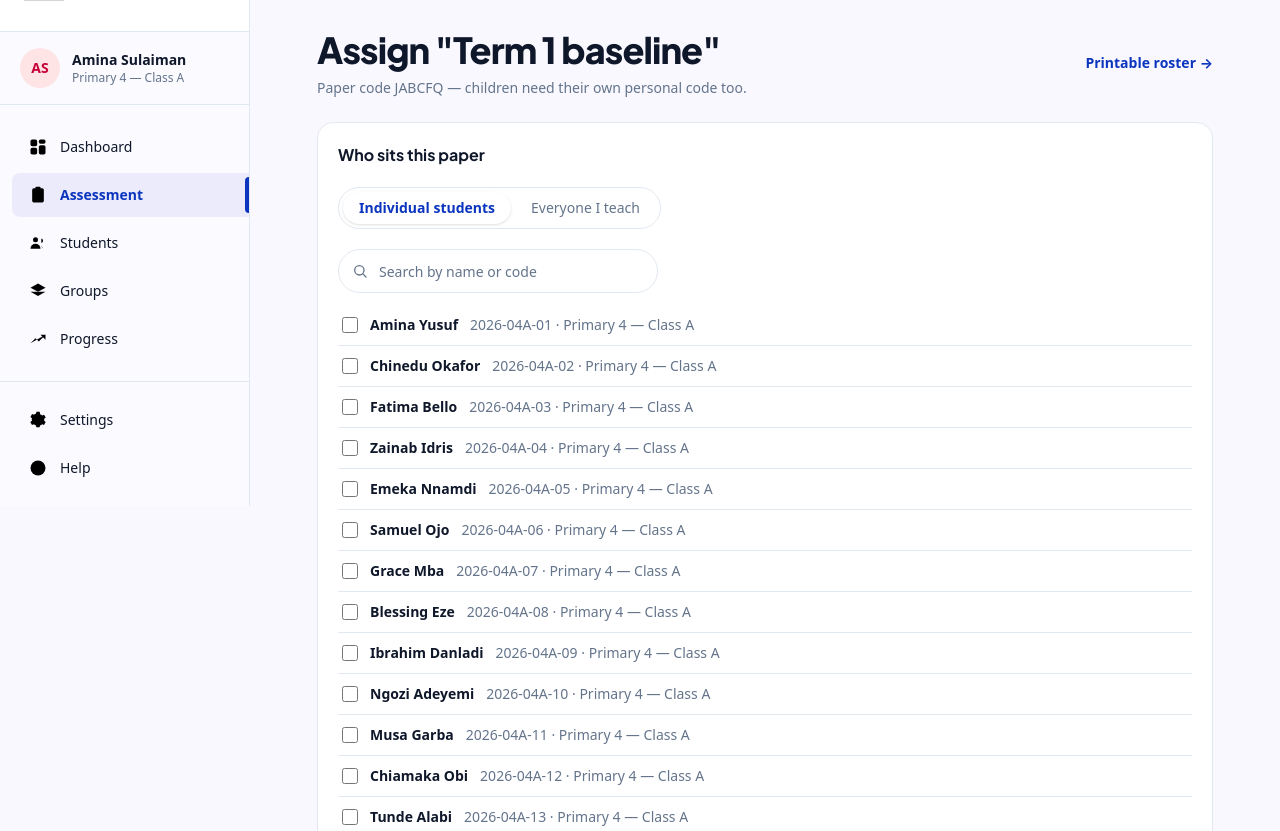
AssignAssessmentPage › reports assigning individual students fewer than selected the second time
The image size is (1280, 831).
Click the radio button labelled "Individual students" at (427,208), box [343,192,511,224]
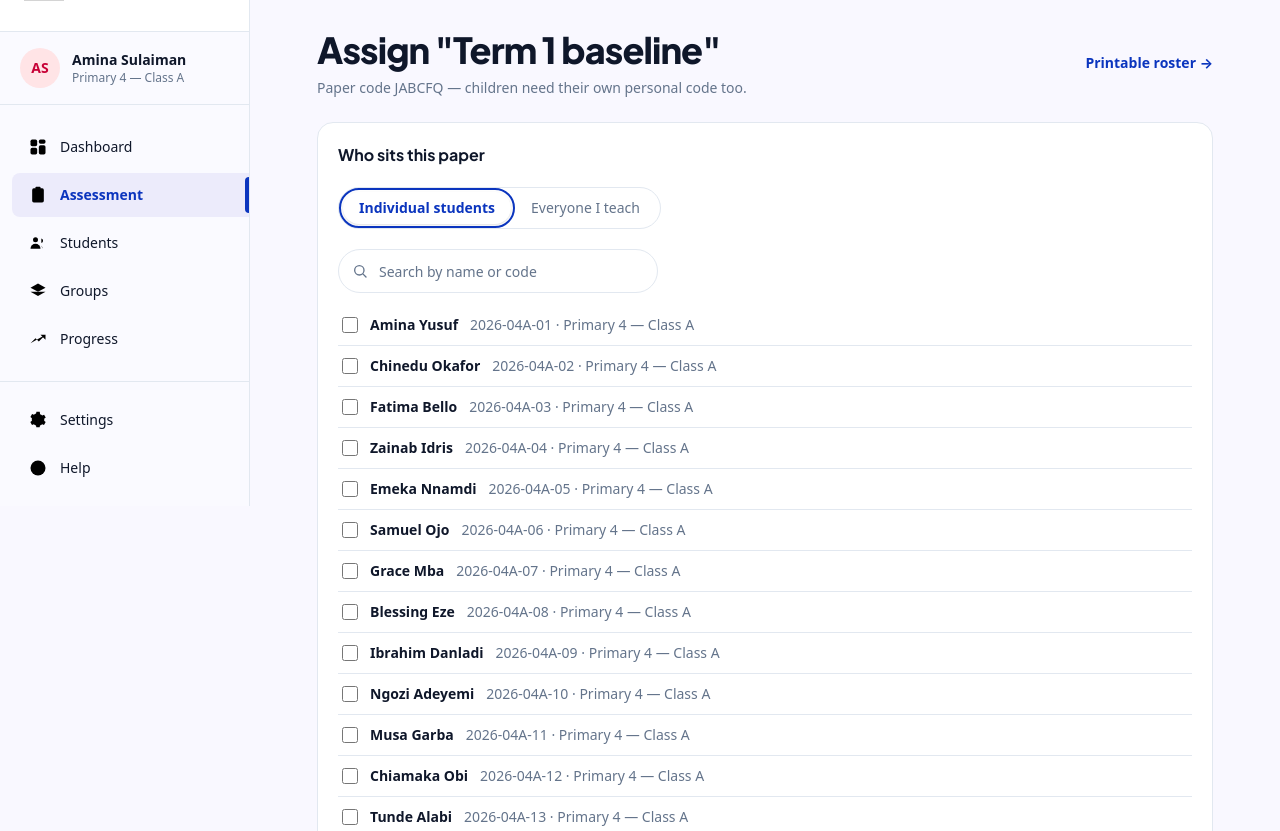
Click the checkbox labelled "Amina Yusuf 2026-04A-01 · Primary 4 — Class A" at (350,325), box [342,317,358,333]
(page scrolled)
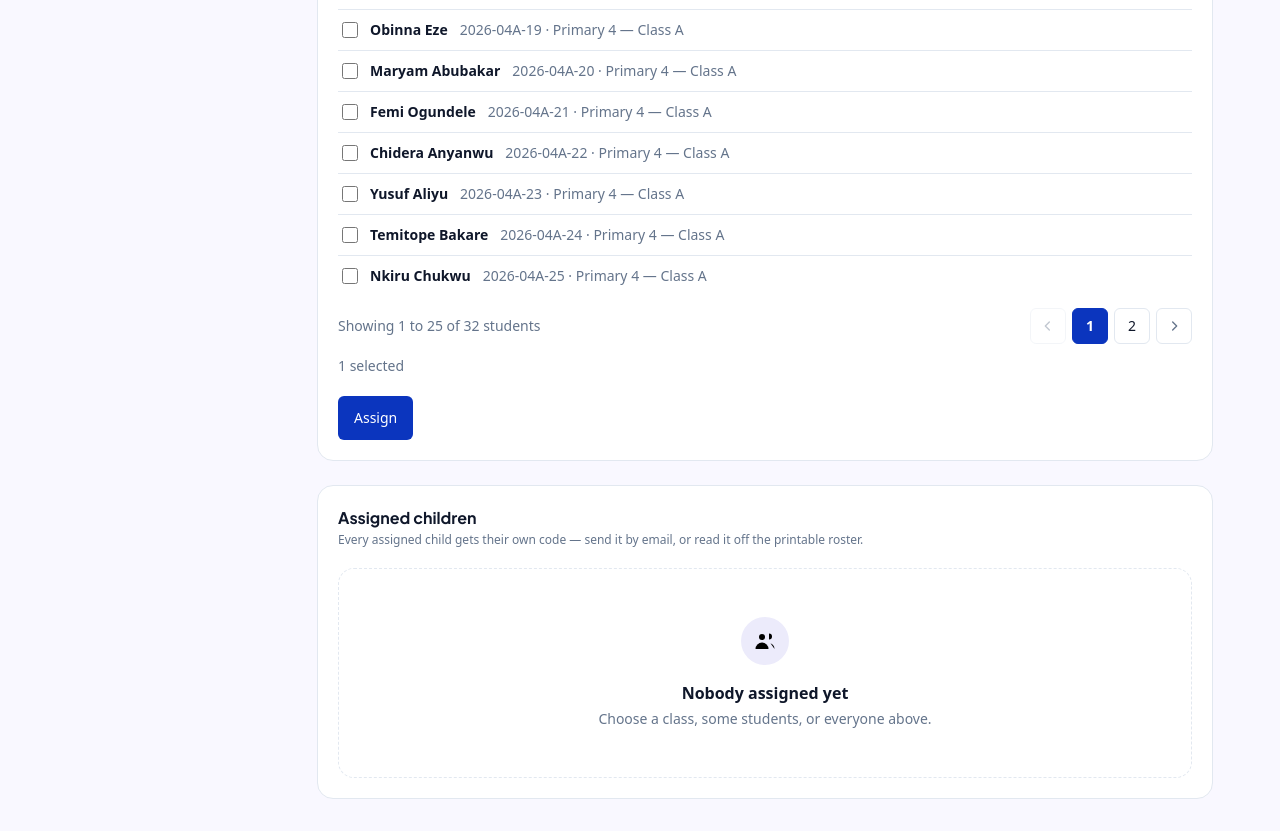
Click the button "Assign" at (376,418), box [338,396,413,440]
(page scrolled)
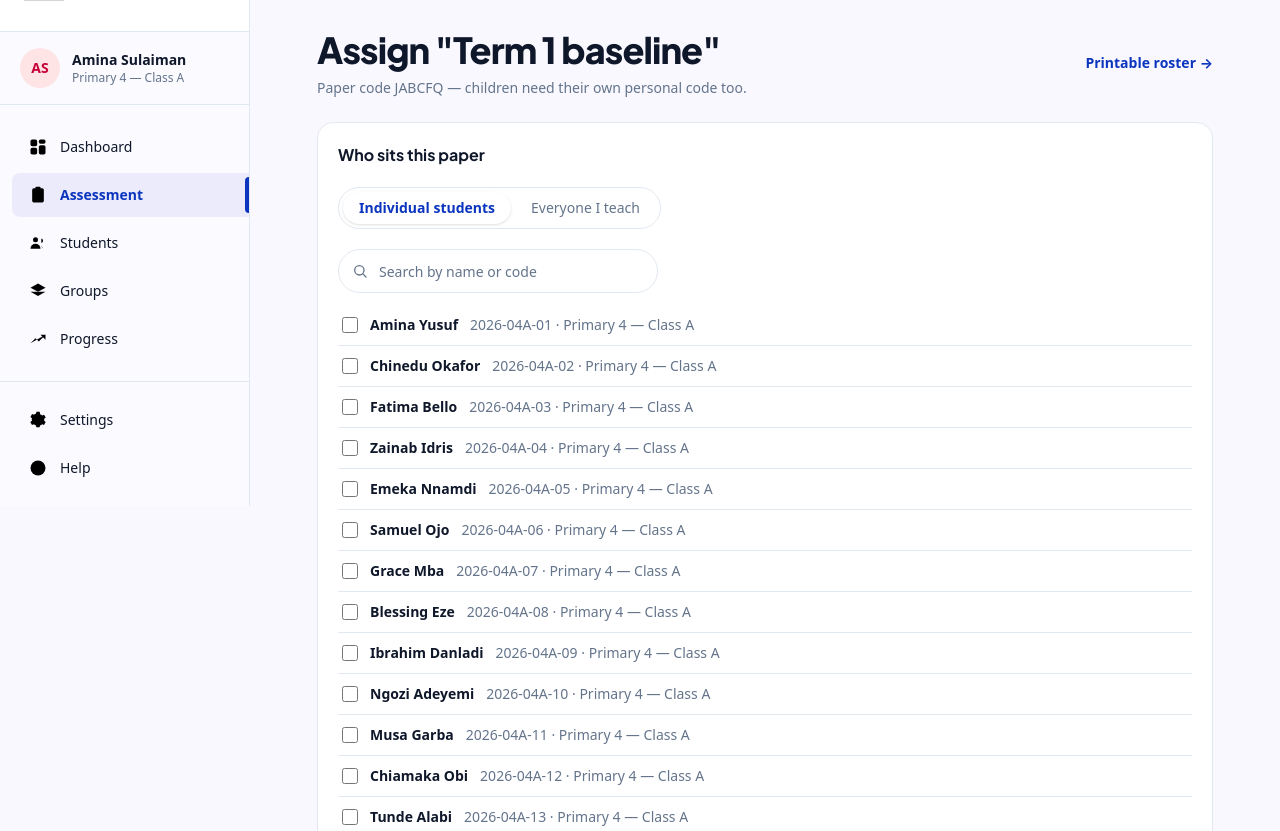
# Amina again, plus a new child this time.
Click the checkbox labelled "Amina Yusuf 2026-04A-01 · Primary 4 — Class A" at (350,325), box [342,317,358,333]
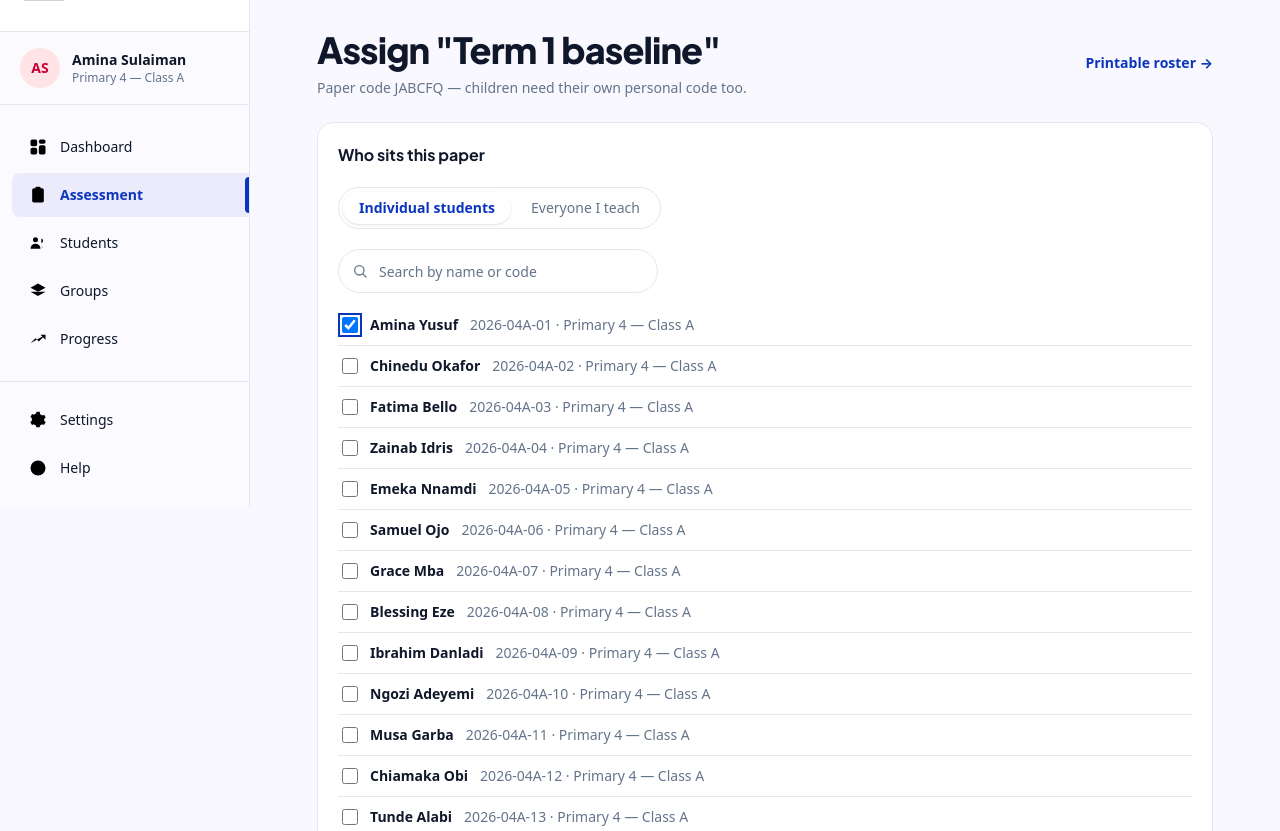
Click the checkbox labelled "Chinedu Okafor 2026-04A-02 · Primary 4 — Class A" at (350,366), box [342,358,358,374]
(page scrolled)
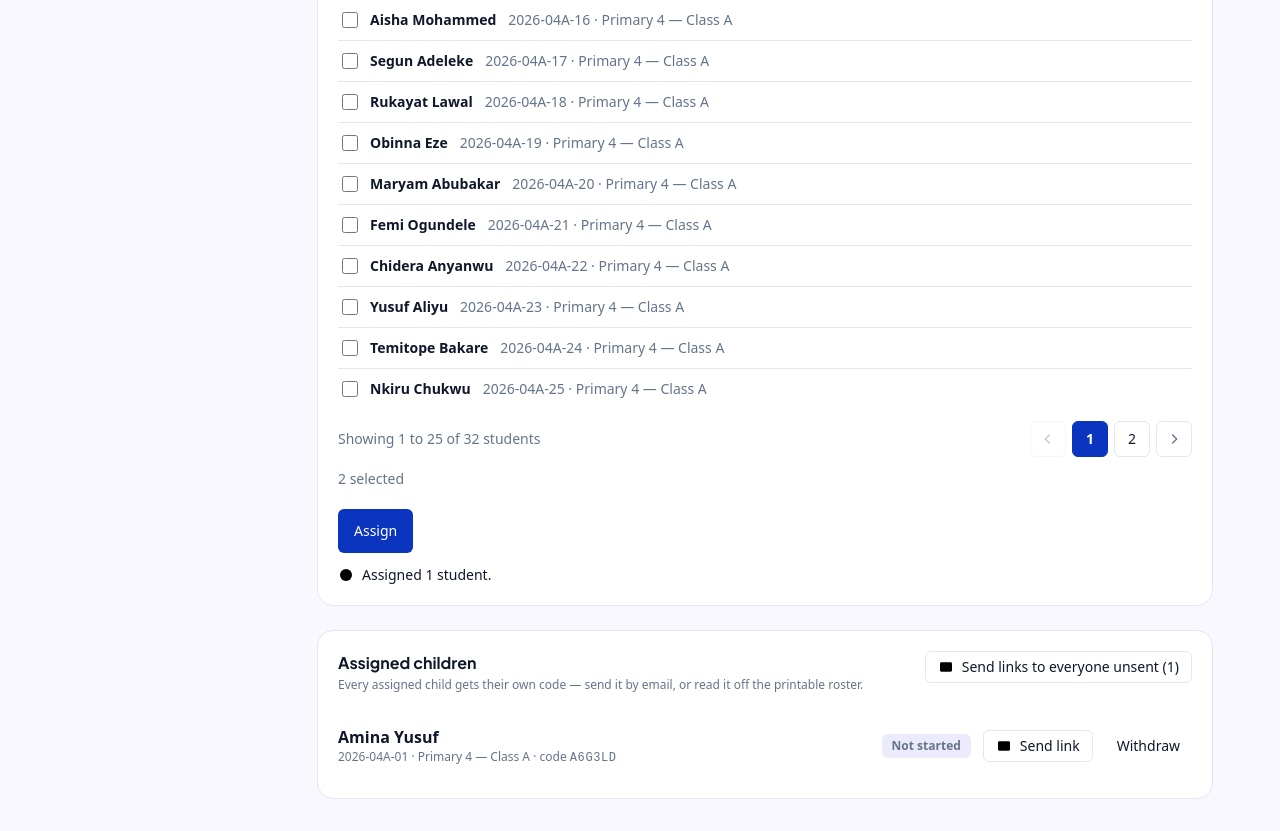
Click the button "Assign" at (376,531), box [338,509,413,553]
(page scrolled)
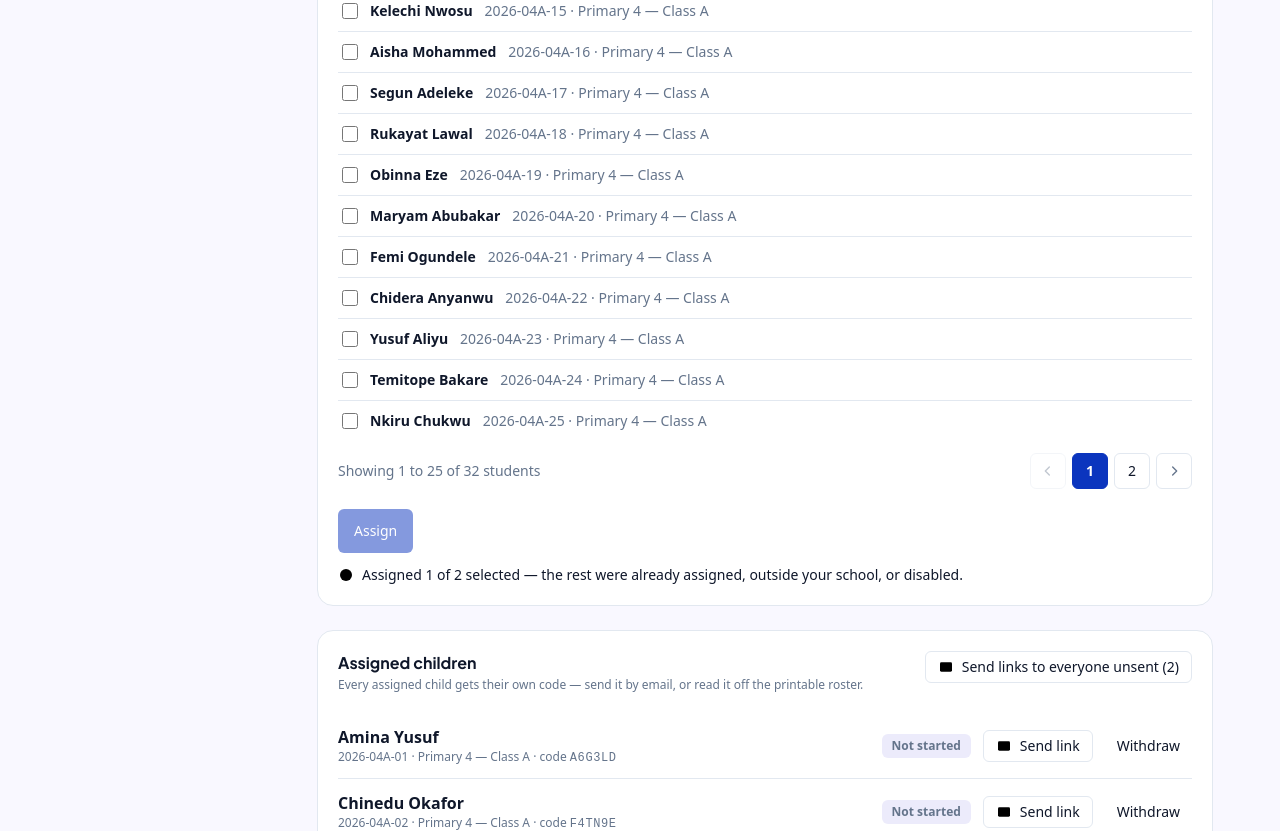
Expected: the text "Assigned 1 of 2 selected — the rest were already assigned, outside your school, or disabled." is shown, [362,565,963,584]
